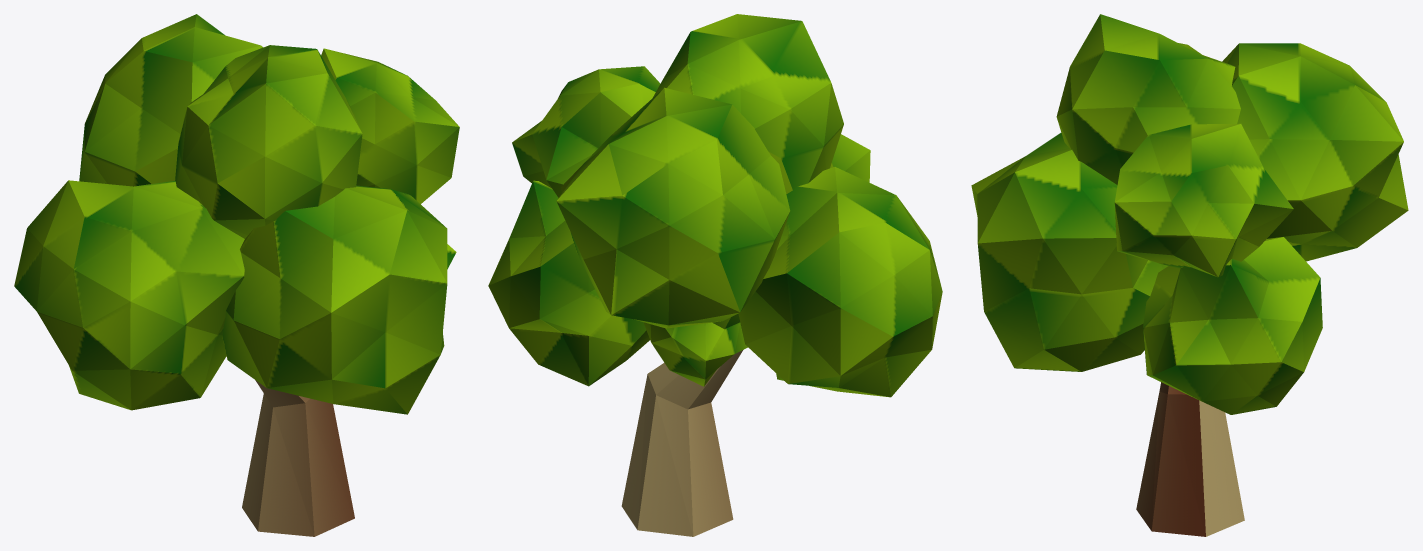
Rendered from Laubbaum2.fbx.
3 renders of one model, left to right at view 1: azimuth 30°, elevation 25°; view 2: azimuth 150°, elevation 25°; view 3: azimuth 270°, elevation 25°, orthographic. The views are drawn at different scales.
Visible parts, largest first — view 1: krone, stamm_1; view 2: krone, stamm_1; view 3: krone, stamm_1.
Part boxes in pixels (bbox=[...]): krone: bbox=[14, 14, 459, 414]; stamm_1: bbox=[242, 380, 354, 536]; krone: bbox=[488, 14, 942, 397]; stamm_1: bbox=[621, 350, 742, 536]; krone: bbox=[971, 14, 1408, 414]; stamm_1: bbox=[1136, 382, 1244, 536].
Bounding box in the file's own units: 700 × 788 × 672.
